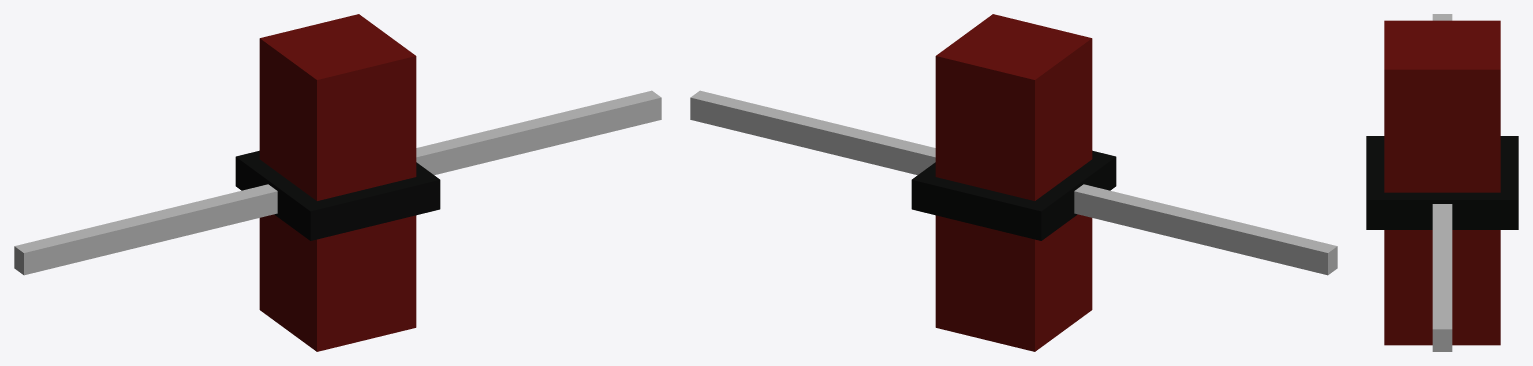
Rendered from prop_gate_barrier.obj.
3 views of the same model, side by side, from view 1: azimuth 30°, elevation 25°; view 2: azimuth 150°, elevation 25°; view 3: azimuth 270°, elevation 25° (orthographic).
Parts seen in each view (by area): view 1: prop_gate_barrier_DA_0000, prop_gate_barrier_DA_0004, prop_gate_barrier_DA_0001; view 2: prop_gate_barrier_DA_0000, prop_gate_barrier_DA_0004, prop_gate_barrier_DA_0001; view 3: prop_gate_barrier_DA_0000, prop_gate_barrier_DA_0001, prop_gate_barrier_DA_0004.
Part boxes in pixels (x1,y1,x2,y2): prop_gate_barrier_DA_0000: [259, 14, 416, 351]; prop_gate_barrier_DA_0004: [14, 90, 661, 275]; prop_gate_barrier_DA_0001: [235, 150, 440, 240]; prop_gate_barrier_DA_0000: [935, 14, 1092, 351]; prop_gate_barrier_DA_0004: [690, 90, 1337, 275]; prop_gate_barrier_DA_0001: [911, 150, 1116, 240]; prop_gate_barrier_DA_0000: [1384, 20, 1500, 345]; prop_gate_barrier_DA_0001: [1366, 136, 1518, 229]; prop_gate_barrier_DA_0004: [1432, 14, 1452, 351].
Bounding box in the file's own units: 2.7 × 1.1 × 0.55.
